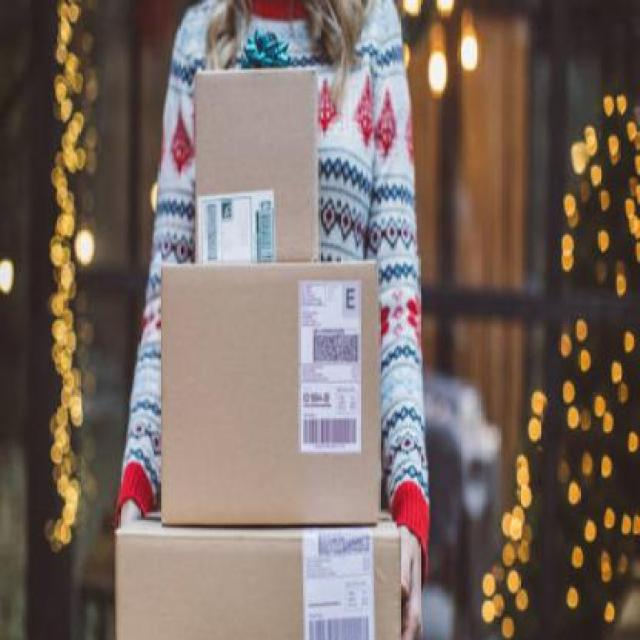box: (151, 253, 391, 536), (111, 510, 409, 640), (190, 53, 332, 266)
